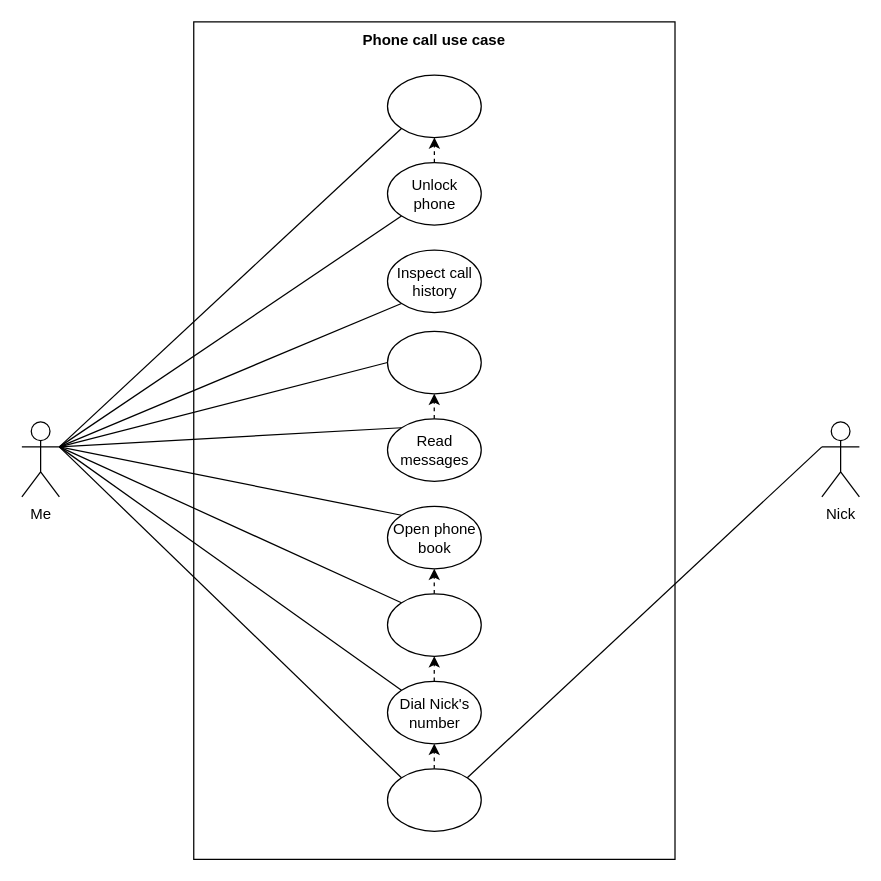
Some shapes in this 881 by 881 pixel diagram are drawn without their labels. Each missing label, with the box of its shape:
Call: (386, 768, 481, 831)
Lookup Nick's Number: (386, 592, 481, 656)
Open messages: (386, 330, 481, 394)
Open phone: (386, 74, 481, 138)
